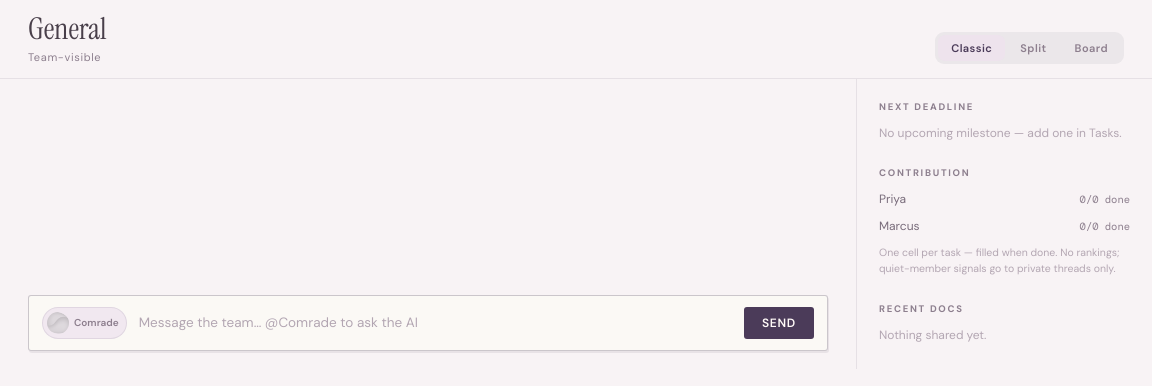
it: a turn that cannot run › the room says what it is doing while it works
This screenshot has width=1152, height=386.
Type "@comrade what is left?" into the field with placeholder "Message the team… @Comrade to ask the AI" at (435, 322), box [137,306,734,338]
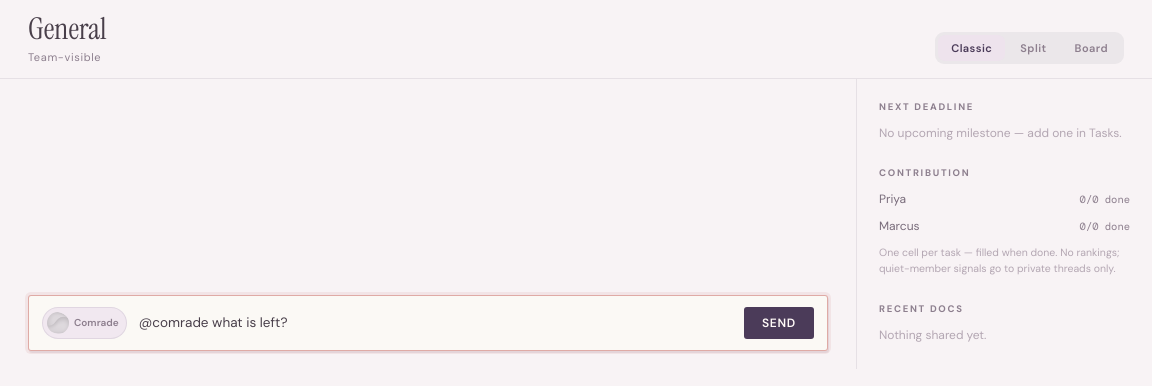
Click the button "SEND" at (779, 322), box [744,306,814,338]
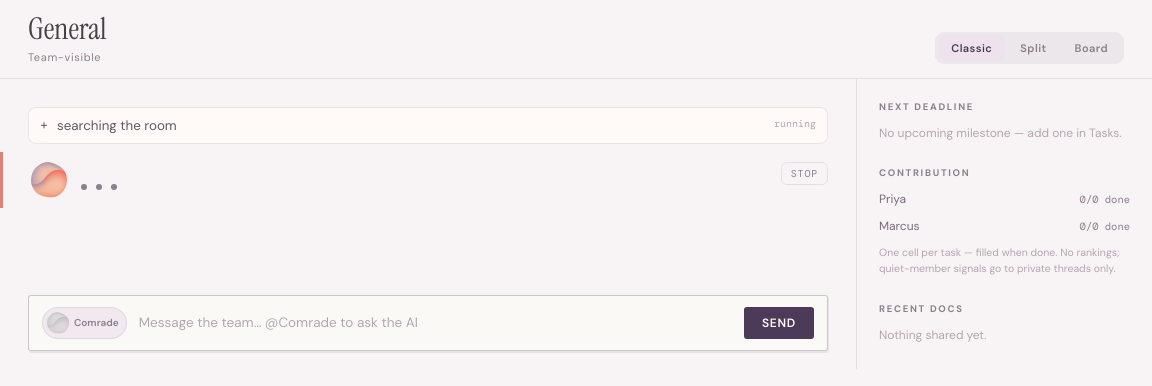
Expected: the text "searching the room" is shown, [57,117,177,134]
